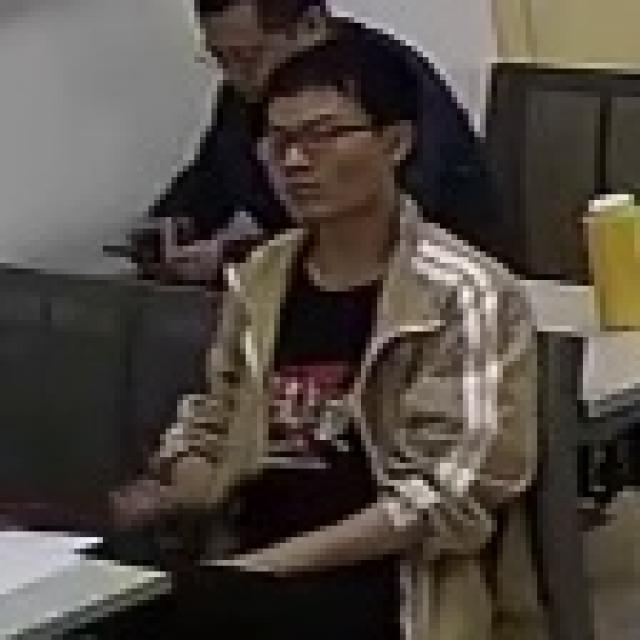listen: (159, 42, 540, 640)
phone: (100, 0, 513, 291)
